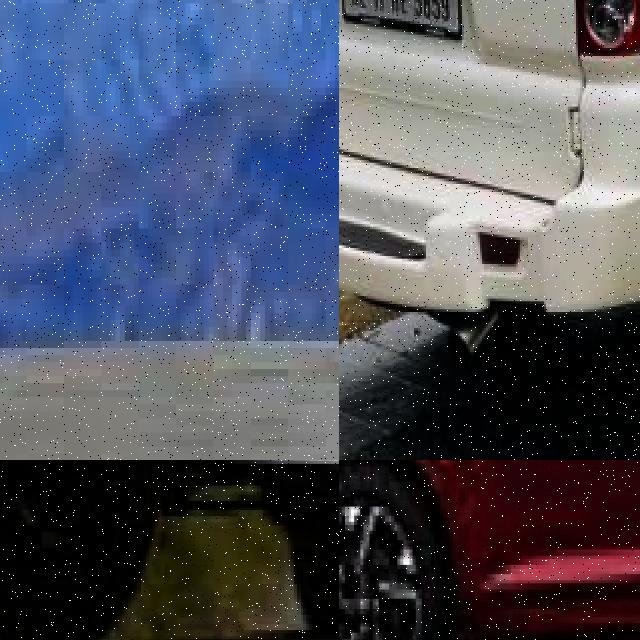car: (339, 0, 640, 365), (0, 460, 339, 640), (339, 460, 640, 640)
